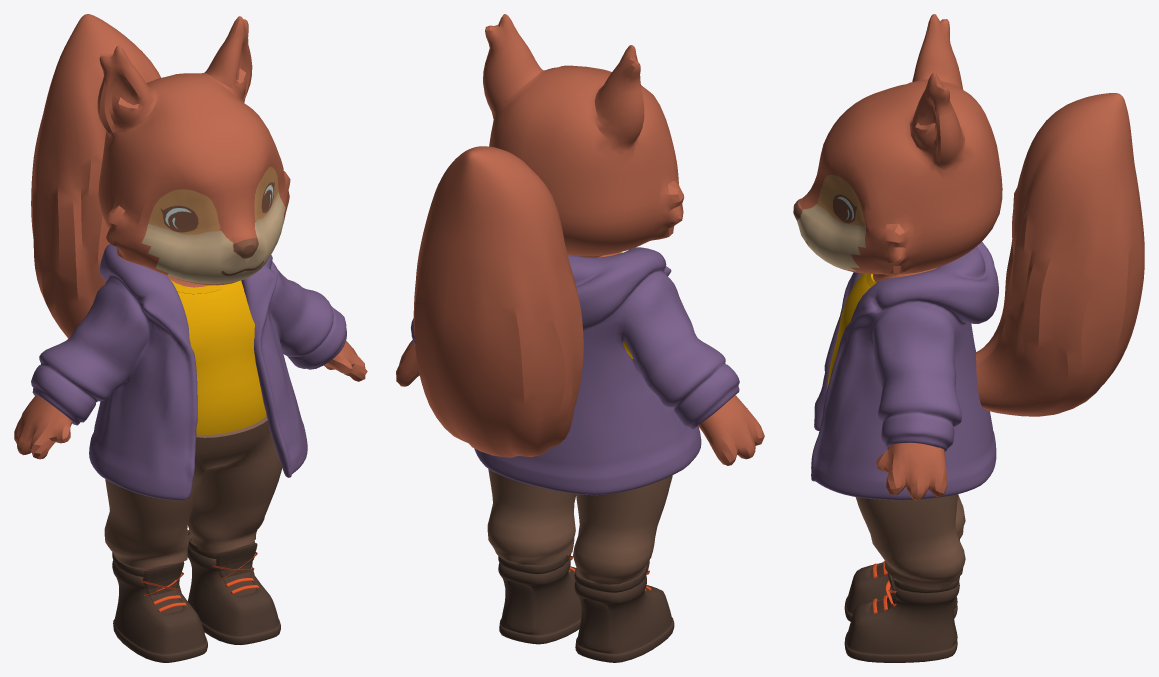
Rendered from mim-game-ready-v1.glb.
The picture shows the model from 3 angles, left to right: view 1: azimuth 30°, elevation 25°; view 2: azimuth 150°, elevation 25°; view 3: azimuth 270°, elevation 25°; orthographic projection. The views are drawn at different scales.
Visible parts, largest first — view 1: main; view 2: main; view 3: main.
Boxes of the visible parts, left/top/right/bottom form: main: left=14, top=14, right=367, bottom=662; main: left=396, top=14, right=764, bottom=662; main: left=793, top=14, right=1144, bottom=662.
Bounding box in the file's own units: 0.9129 × 1.51 × 0.8191.
7 materials, 1 textured.
